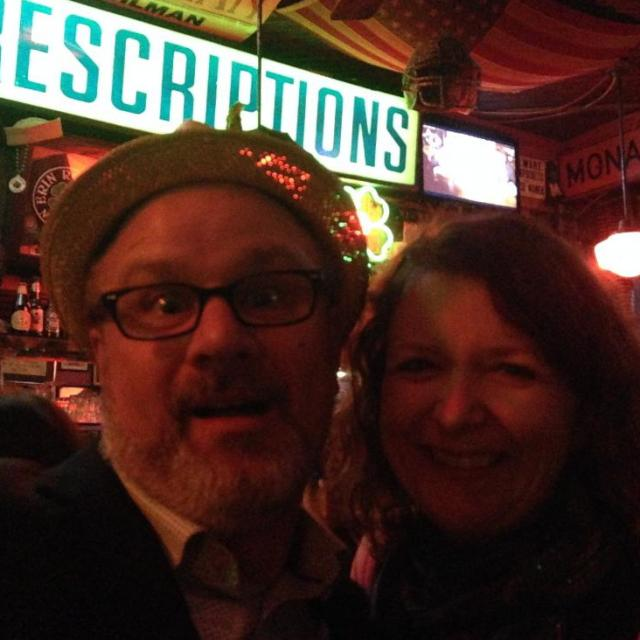Glasses: (78, 267, 346, 348)
